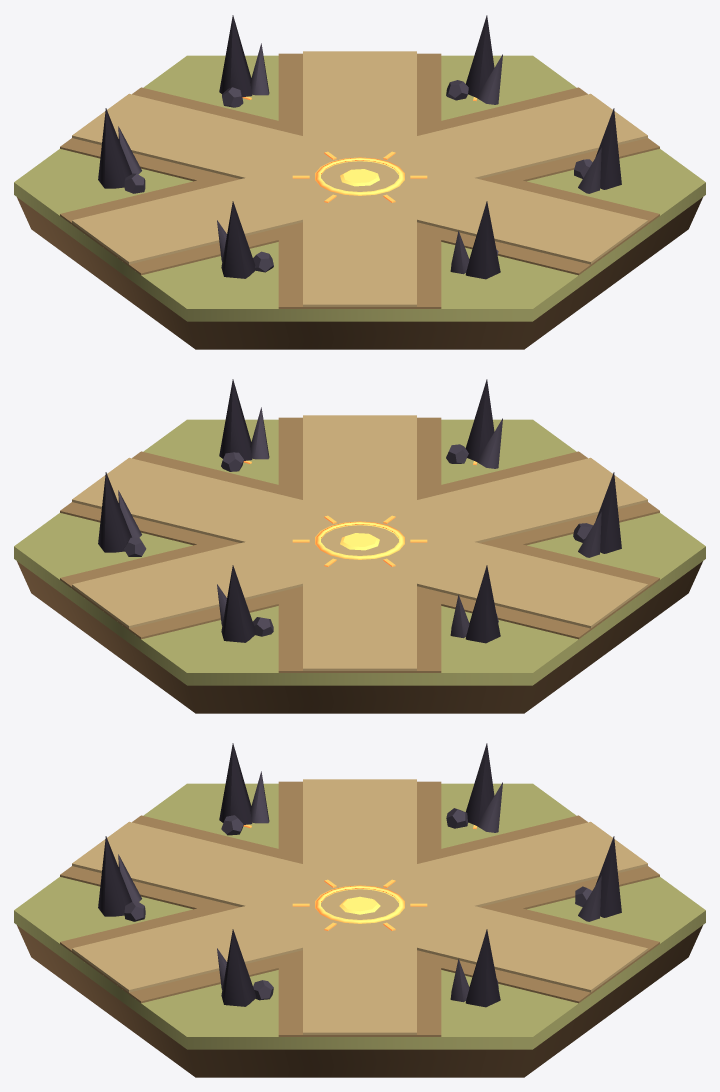
The model's file is landmark_boss.glb.
The picture shows the model from 3 angles, top to bottom: view 1: azimuth 30°, elevation 25°; view 2: azimuth 150°, elevation 25°; view 3: azimuth 270°, elevation 25°; orthographic projection.
Parts seen in each view (by area): view 1: road, ground, ground_soil, deco_spikes_2_main, deco_spikes_3_main, deco_spikes_4_main, deco_spikes_1_main, deco_spikes_5_main, deco_spikes_0_main, core_ring, deco_spikes_0_side, deco_spikes_1_side (+2 smaller); view 2: road, ground, ground_soil, deco_spikes_0_main, deco_spikes_1_main, deco_spikes_2_main, deco_spikes_5_main, deco_spikes_3_main, deco_spikes_4_main, core_ring, deco_spikes_4_side, deco_spikes_5_side (+2 smaller); view 3: road, ground, ground_soil, deco_spikes_4_main, deco_spikes_5_main, deco_spikes_0_main, deco_spikes_3_main, deco_spikes_1_main, deco_spikes_2_main, core_ring, road_surface_hub, deco_spikes_2_side (+3 smaller).
Boxes of the visible parts, x1=… form: road: x1=60, y1=51, x2=659, y2=308; ground: x1=14, y1=55, x2=705, y2=321; ground_soil: x1=17, y1=197, x2=702, y2=349; deco_spikes_2_main: x1=98, y1=108, x2=132, y2=188; deco_spikes_3_main: x1=221, y1=201, x2=255, y2=278; deco_spikes_4_main: x1=465, y1=201, x2=500, y2=279; deco_spikes_1_main: x1=219, y1=15, x2=252, y2=97; deco_spikes_5_main: x1=595, y1=108, x2=621, y2=189; deco_spikes_0_main: x1=466, y1=15, x2=494, y2=97; core_ring: x1=315, y1=157, x2=404, y2=195; deco_spikes_0_side: x1=477, y1=54, x2=502, y2=104; deco_spikes_1_side: x1=250, y1=43, x2=269, y2=95; road: x1=60, y1=415, x2=659, y2=672; ground: x1=14, y1=419, x2=705, y2=685; ground_soil: x1=17, y1=561, x2=702, y2=713; deco_spikes_0_main: x1=98, y1=472, x2=131, y2=552; deco_spikes_1_main: x1=221, y1=565, x2=255, y2=642; deco_spikes_2_main: x1=465, y1=565, x2=500, y2=643; deco_spikes_5_main: x1=219, y1=379, x2=252, y2=460; deco_spikes_3_main: x1=595, y1=472, x2=621, y2=553; deco_spikes_4_main: x1=465, y1=379, x2=494, y2=461; core_ring: x1=315, y1=521, x2=404, y2=559; deco_spikes_4_side: x1=477, y1=418, x2=502, y2=468; deco_spikes_5_side: x1=250, y1=407, x2=269, y2=459; road: x1=60, y1=779, x2=659, y2=1036; ground: x1=14, y1=783, x2=705, y2=1049; ground_soil: x1=17, y1=925, x2=702, y2=1077; deco_spikes_4_main: x1=98, y1=836, x2=131, y2=916; deco_spikes_5_main: x1=221, y1=929, x2=256, y2=1006; deco_spikes_0_main: x1=465, y1=929, x2=500, y2=1007; deco_spikes_3_main: x1=219, y1=743, x2=252, y2=824; deco_spikes_1_main: x1=595, y1=836, x2=621, y2=917; deco_spikes_2_main: x1=466, y1=743, x2=494, y2=825; core_ring: x1=315, y1=885, x2=404, y2=923; road_surface_hub: x1=304, y1=882, x2=403, y2=929; deco_spikes_2_side: x1=477, y1=782, x2=502, y2=832.
Bounding box in the file's own units: 1.73 × 0.3891 × 2.
